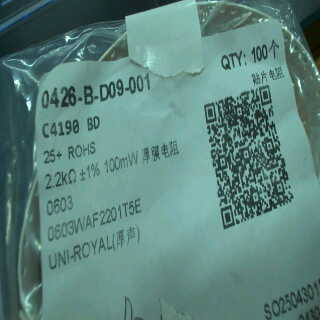2.2kR: (44, 167, 76, 191)
